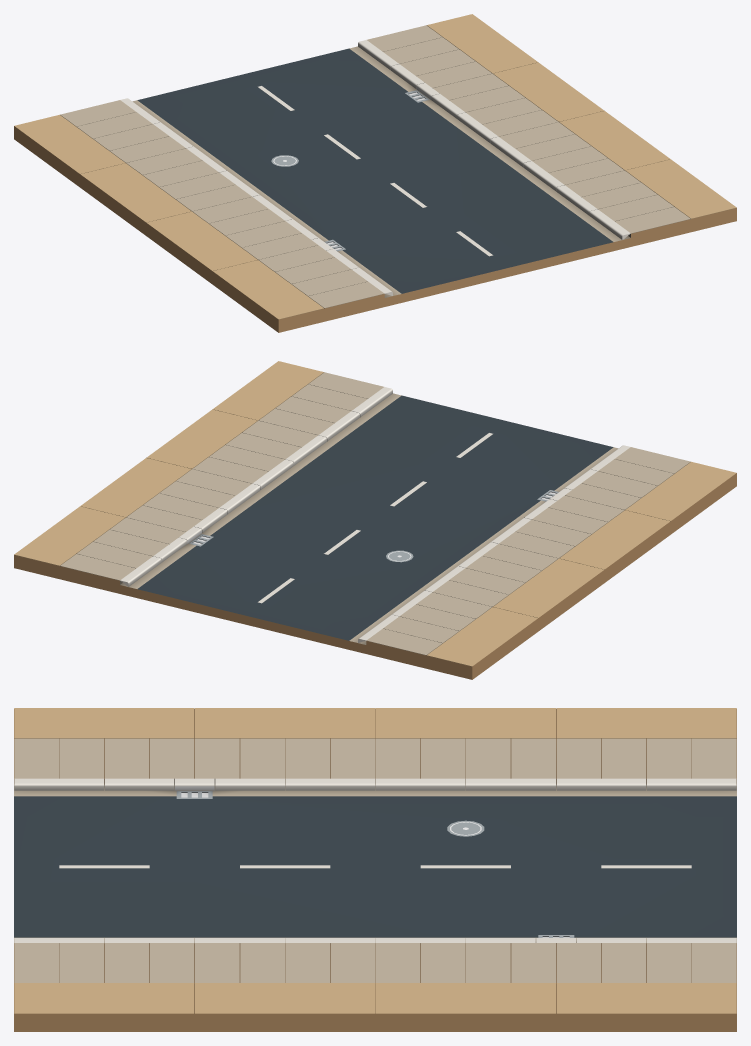
The model's file is road_straight.fbx.
The picture shows the model from 3 angles, top to bottom: view 1: azimuth 30°, elevation 25°; view 2: azimuth 150°, elevation 25°; view 3: azimuth 270°, elevation 25°; orthographic projection. The views are drawn at different scales.
Parts seen in each view (by area): view 1: road_straight; view 2: road_straight; view 3: road_straight.
Boxes of the visible parts, x1=… form: road_straight: x1=14, y1=14, x2=736, y2=332; road_straight: x1=14, y1=361, x2=736, y2=679; road_straight: x1=14, y1=708, x2=736, y2=1031.
Size of the model in its own units: 16 by 0.45 by 16.
